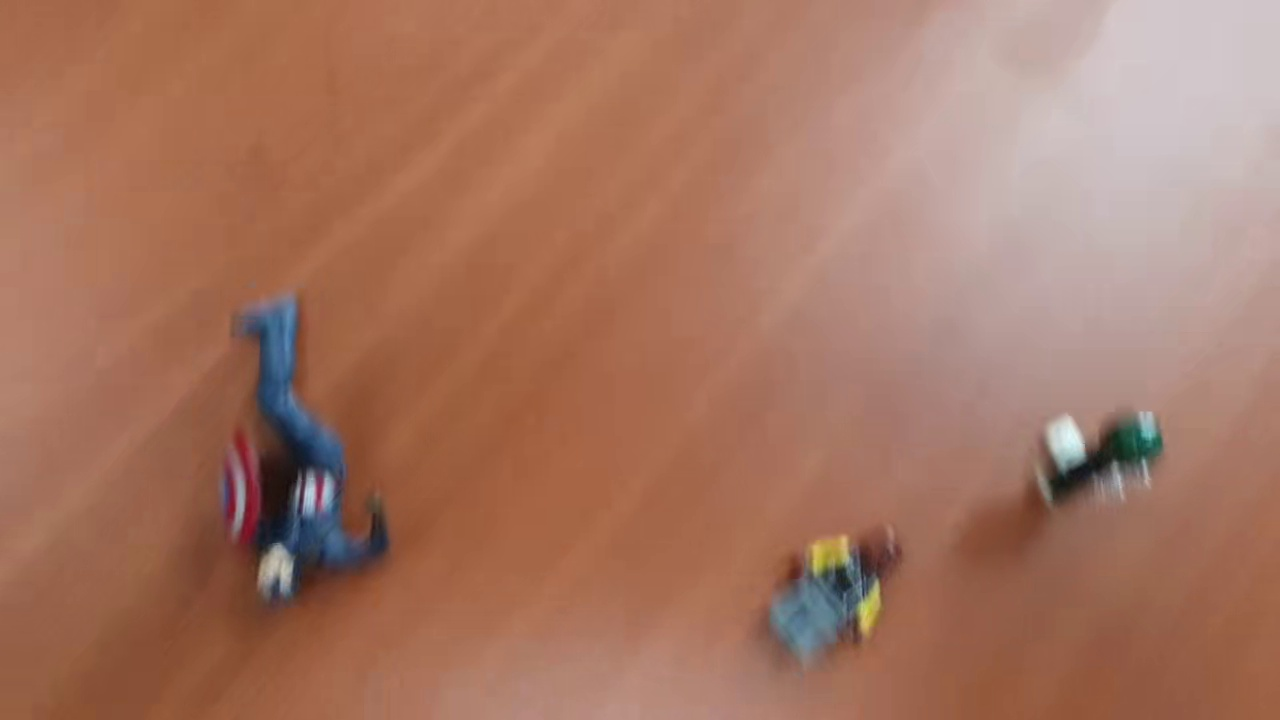people: (218, 292, 399, 612), (765, 518, 909, 670), (1032, 406, 1164, 524)
